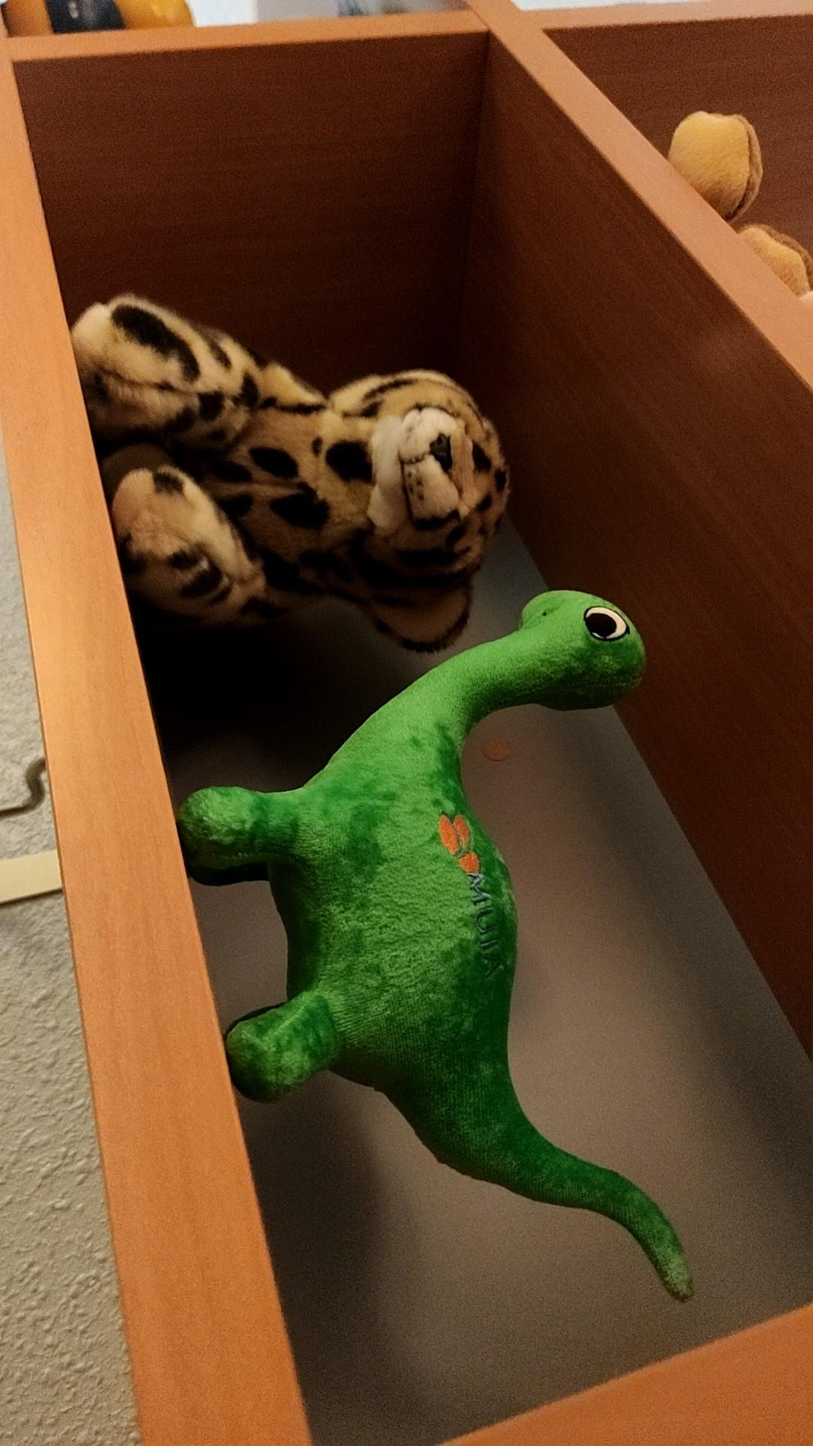toy: (178, 592, 690, 1298), (72, 295, 507, 651)
